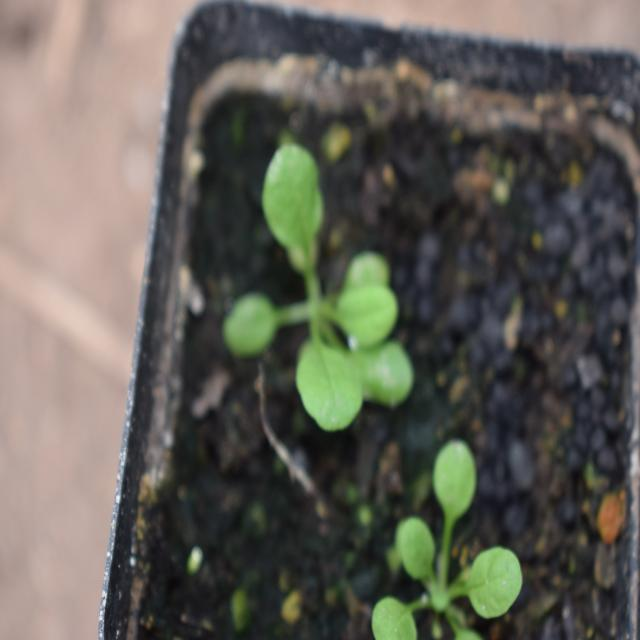Shepherd_Purse: (361, 438, 522, 632)
